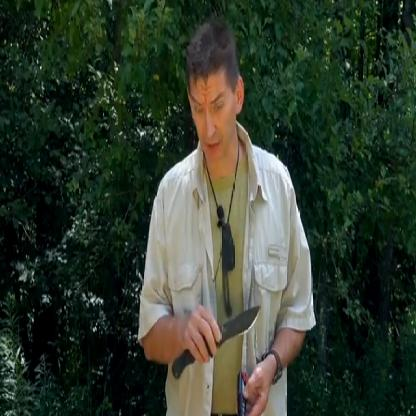knife: (165, 300, 265, 382)
